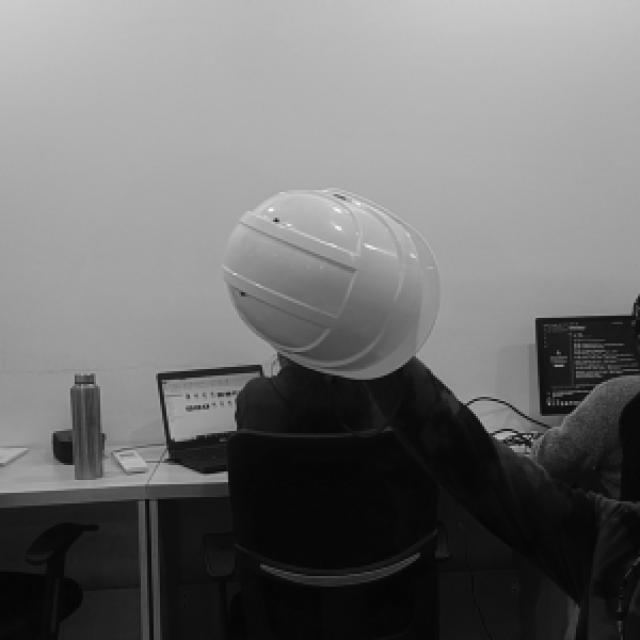safety_helmet: (225, 188, 441, 380)
